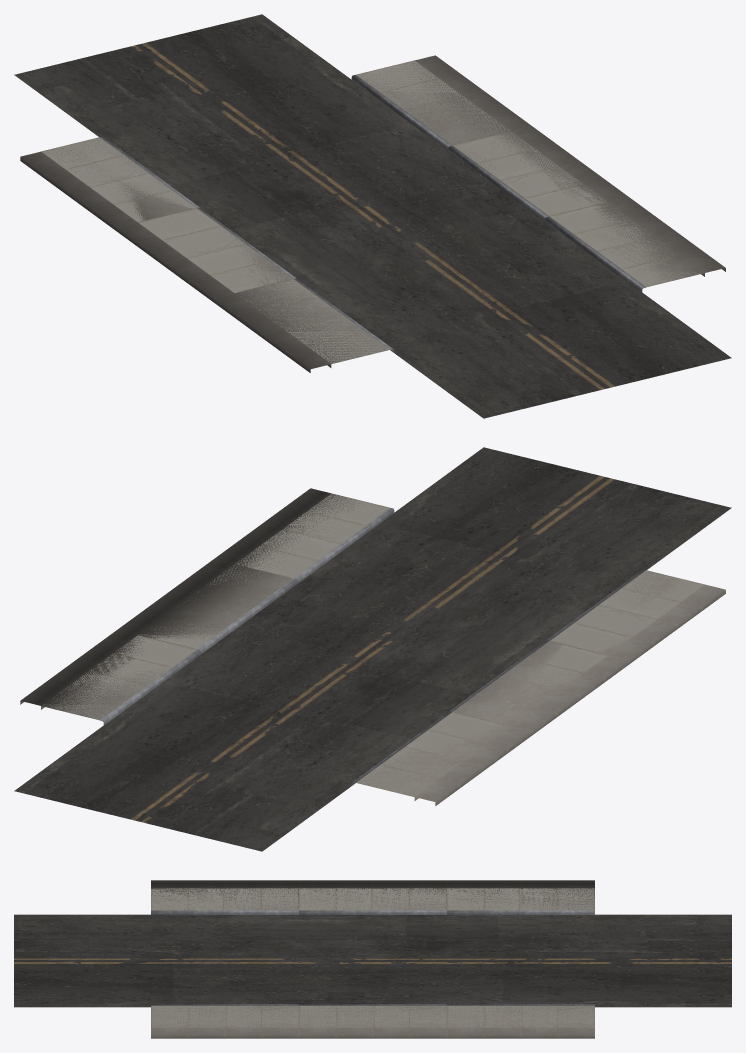
The model's file is low poly roads.fbx.
3 views of the same model, one above another, from view 1: azimuth 30°, elevation 25°; view 2: azimuth 150°, elevation 25°; view 3: azimuth 270°, elevation 25° (orthographic). The views are drawn at different scales.
Visible parts, largest first — view 1: Plane.008, Plane.013, Plane.009, Plane.011, Plane.003, Plane.002, Plane.007, Plane.010, Plane.014, Plane.005, Plane.006, Plane.004 (+1 smaller); view 2: Plane.008, Plane.010, Plane.012, Plane.009, Plane.014, Plane.005, Plane.006, Plane.007, Plane.004, Plane.011, Plane.013, Plane.003 (+1 smaller); view 3: Plane.008, Plane.011, Plane.010, Plane.009, Plane.003, Plane.006, Plane.007, Plane.014, Plane.005, Plane.004, Plane.002, Plane.013 (+1 smaller).
Boxes of the visible parts, x1,y1,x2,y2 form: Plane.008: (14,14,731,418); Plane.013: (214,278,393,372); Plane.009: (351,55,531,150); Plane.011: (545,197,725,292); Plane.003: (138,207,295,293); Plane.002: (450,132,607,217); Plane.007: (41,136,198,222); Plane.010: (448,126,628,221); Plane.014: (20,137,199,231); Plane.005: (549,202,704,292); Plane.006: (240,278,394,367); Plane.004: (352,60,509,146); Plane.008: (14,447,731,851); Plane.010: (117,559,297,654); Plane.012: (450,640,628,734); Plane.009: (20,630,200,725); Plane.014: (352,712,532,805); Plane.005: (235,493,393,580); Plane.006: (547,569,704,653); Plane.007: (351,711,510,800); Plane.004: (41,635,198,725); Plane.011: (214,488,394,583); Plane.013: (547,570,725,664); Plane.003: (450,640,607,723); Plane.008: (14,914,731,1007); Plane.011: (151,1004,298,1038); Plane.010: (299,1004,446,1038); Plane.009: (447,1004,594,1038); Plane.003: (299,888,446,914); Plane.006: (151,888,298,914); Plane.007: (447,888,594,914); Plane.014: (447,880,594,914); Plane.005: (151,1004,298,1027); Plane.004: (447,1004,594,1027); Plane.002: (299,1004,446,1027); Plane.013: (151,880,298,914).
Bounding box in the file's own units: 1238 × 12 × 2425.
